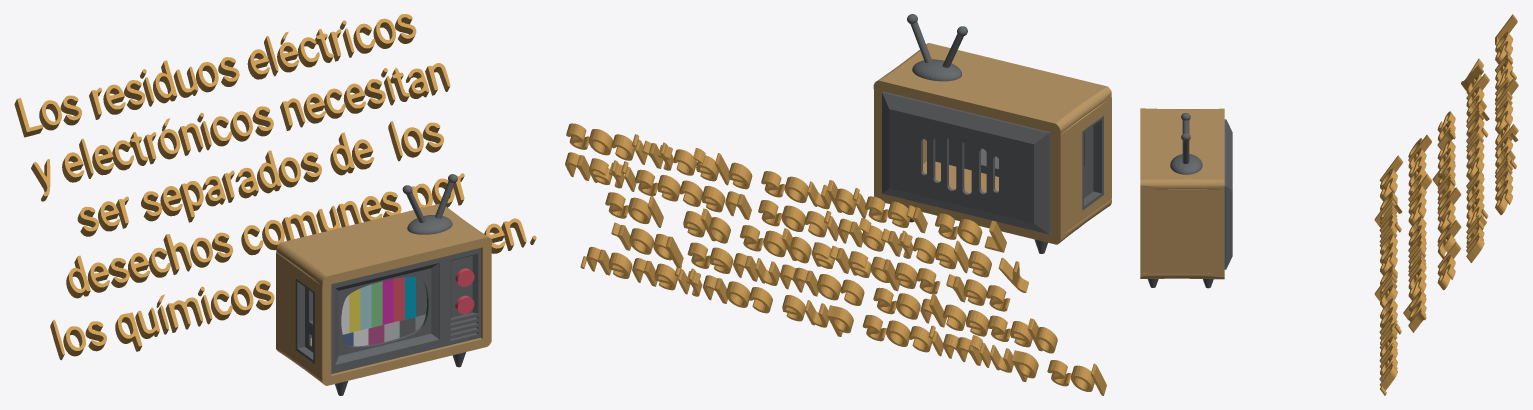
Rendered from asset.glb.
3 views of the same model, side by side, from view 1: azimuth 30°, elevation 25°; view 2: azimuth 150°, elevation 25°; view 3: azimuth 270°, elevation 25° (orthographic). The views are drawn at different scales.
Parts seen in each view (by area): view 1: Mesh_Mesh_head_geo.001_lambert2SG.001; view 2: Mesh_Mesh_head_geo.001_lambert2SG.001; view 3: Mesh_Mesh_head_geo.001_lambert2SG.001.
Part boxes in pixels (box(x1,y1,x2,y2)): Mesh_Mesh_head_geo.001_lambert2SG.001: box(14, 14, 536, 395); Mesh_Mesh_head_geo.001_lambert2SG.001: box(565, 14, 1111, 395); Mesh_Mesh_head_geo.001_lambert2SG.001: box(1140, 14, 1518, 395).
Bounding box in the file's own units: 482 × 206 × 366.
